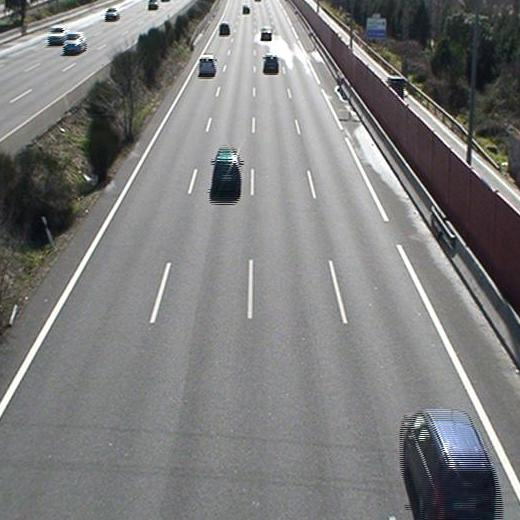car: (399, 408, 497, 520), (212, 148, 242, 201), (199, 55, 217, 77), (263, 54, 280, 75), (259, 28, 273, 41), (220, 23, 231, 37)
